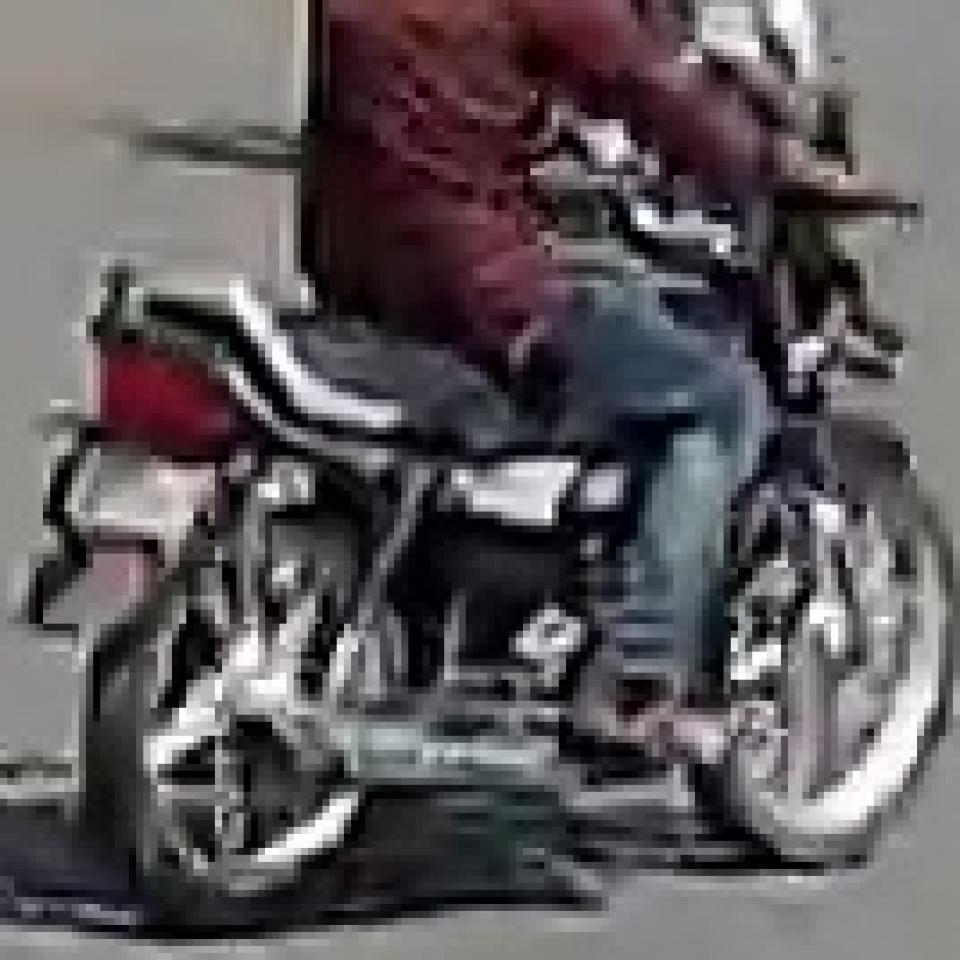tail_light: (89, 342, 233, 447)
